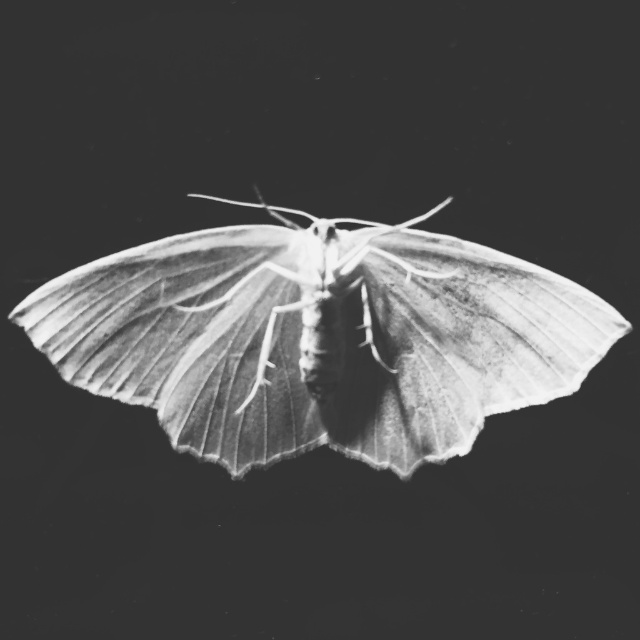Butterfly: (124, 187, 618, 468)
